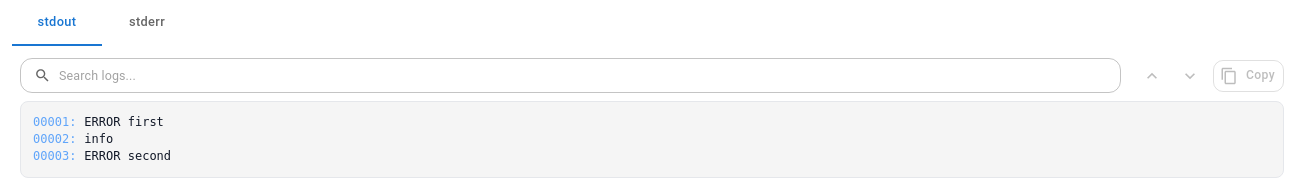
ProtocolLogsPanel › navigates matches with toolbar arrows
In the field labelled "Search logs...": (590, 76) x1=59 y1=58 x2=1121 y2=93, type "error"
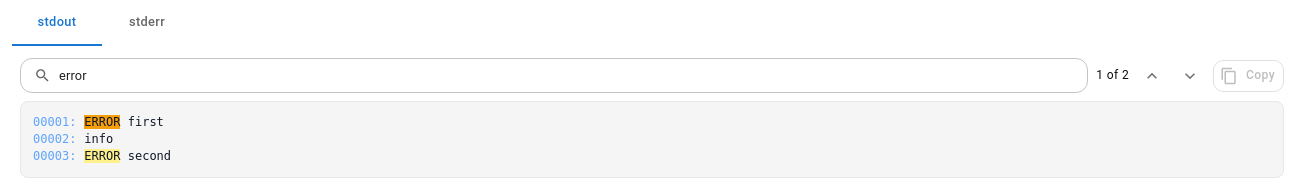
expect the text "1 of 2" is shown: met, box x1=1096 y1=66 x2=1129 y2=86
Click the button named "Next log match": click(1190, 76) x1=1175 y1=61 x2=1205 y2=91
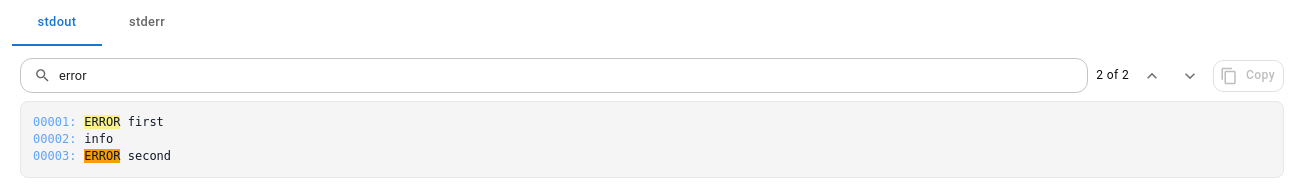
expect the text "2 of 2" is shown: met, box x1=1096 y1=66 x2=1129 y2=86
Click the button named "Previous log match": click(1152, 76) x1=1137 y1=61 x2=1167 y2=91
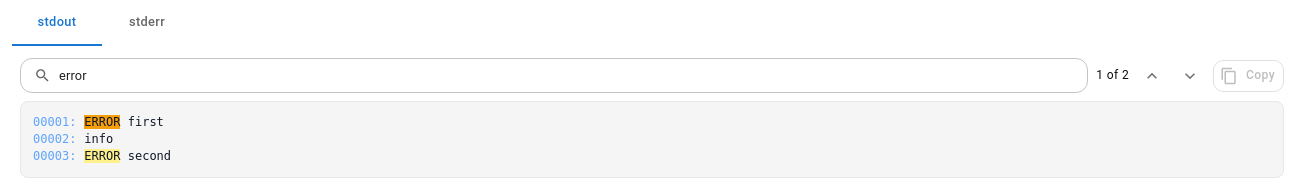
expect the text "1 of 2" is shown: met, box x1=1096 y1=66 x2=1129 y2=86
